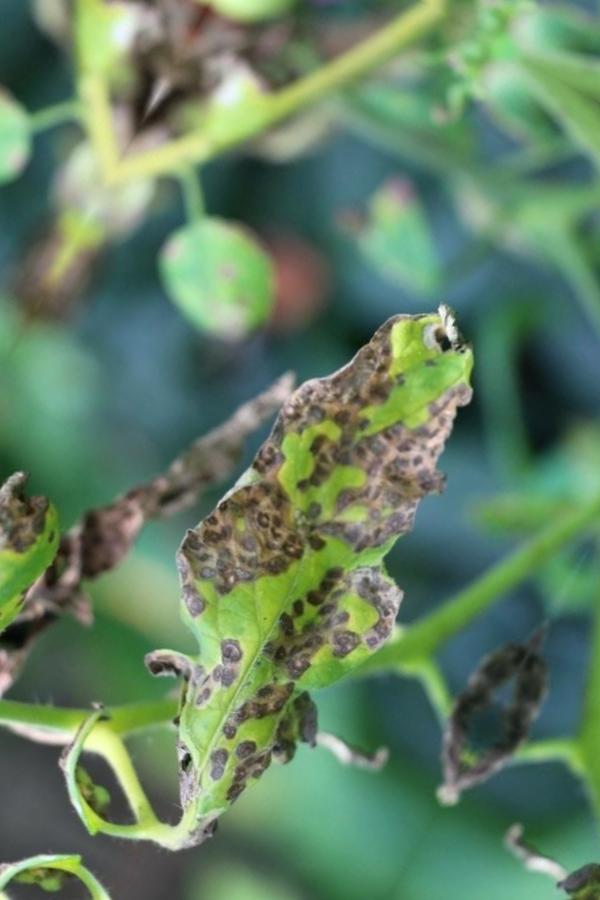Tomato leaf bacterial spot: (45, 231, 552, 869), (0, 433, 102, 759)
